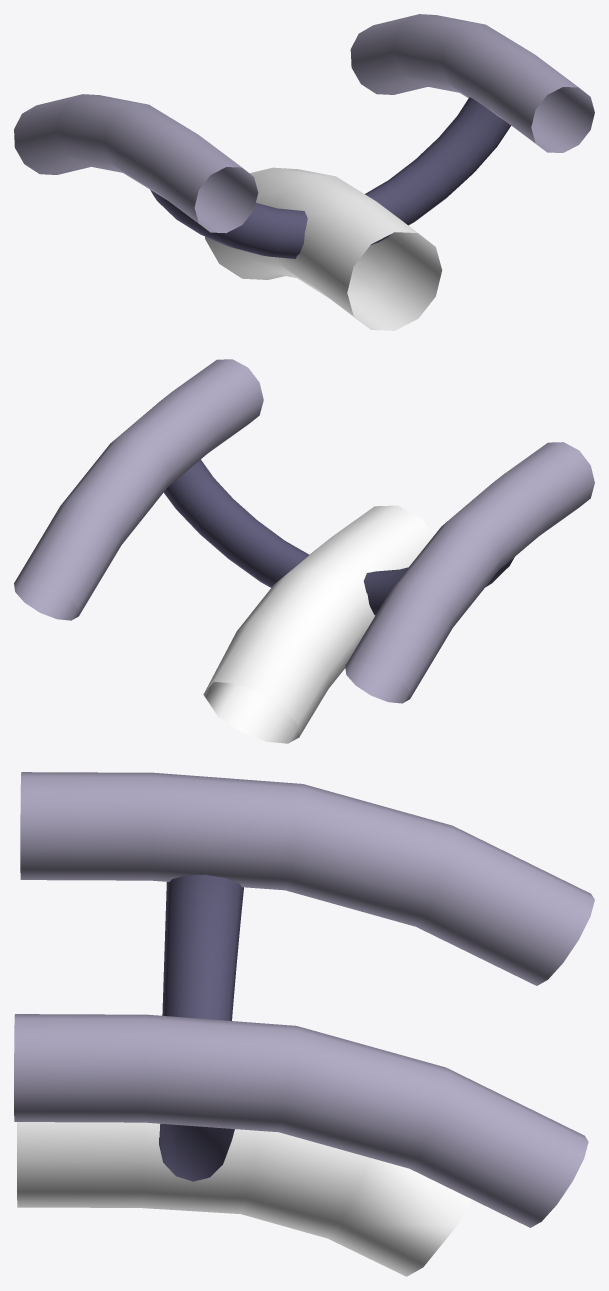
The model's file is rail-down-start.glb.
The picture shows the model from 3 angles, top to bottom: view 1: azimuth 30°, elevation 25°; view 2: azimuth 150°, elevation 25°; view 3: azimuth 270°, elevation 25°; orthographic projection. The views are drawn at different scales.
Visible parts, largest first — view 1: Plane.290_Material.001_0; view 2: Plane.290_Material.001_0; view 3: Plane.290_Material.001_0.
Part boxes in pixels (bbox=[...]): Plane.290_Material.001_0: bbox=[14, 14, 594, 330]; Plane.290_Material.001_0: bbox=[14, 359, 594, 743]; Plane.290_Material.001_0: bbox=[14, 772, 594, 1276].
Bounding box in the file's own units: 2.76 × 1.63 × 2.34.
1 material, 1 textured.
